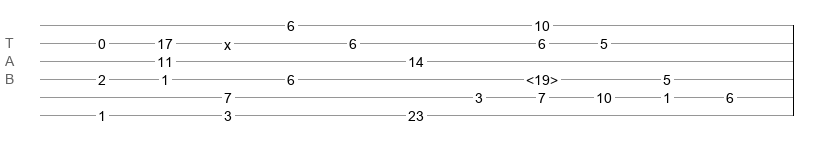0: (98, 36, 106, 46)
1: (98, 108, 106, 118), (161, 72, 169, 82), (663, 90, 671, 100)
10: (534, 18, 550, 28), (596, 90, 612, 100)
11: (157, 54, 173, 64)
14: (408, 54, 424, 64)
17: (157, 36, 173, 46)
2: (98, 72, 106, 82)
23: (408, 108, 424, 118)
3: (224, 108, 232, 118), (475, 90, 483, 100)
5: (600, 36, 608, 46), (663, 72, 671, 82)
6: (287, 18, 295, 28), (287, 72, 295, 82), (349, 36, 357, 46), (538, 36, 546, 46), (726, 90, 734, 100)
7: (224, 90, 232, 100), (538, 90, 546, 100)
harmonic: (526, 72, 558, 82)
x: (224, 37, 231, 45)
